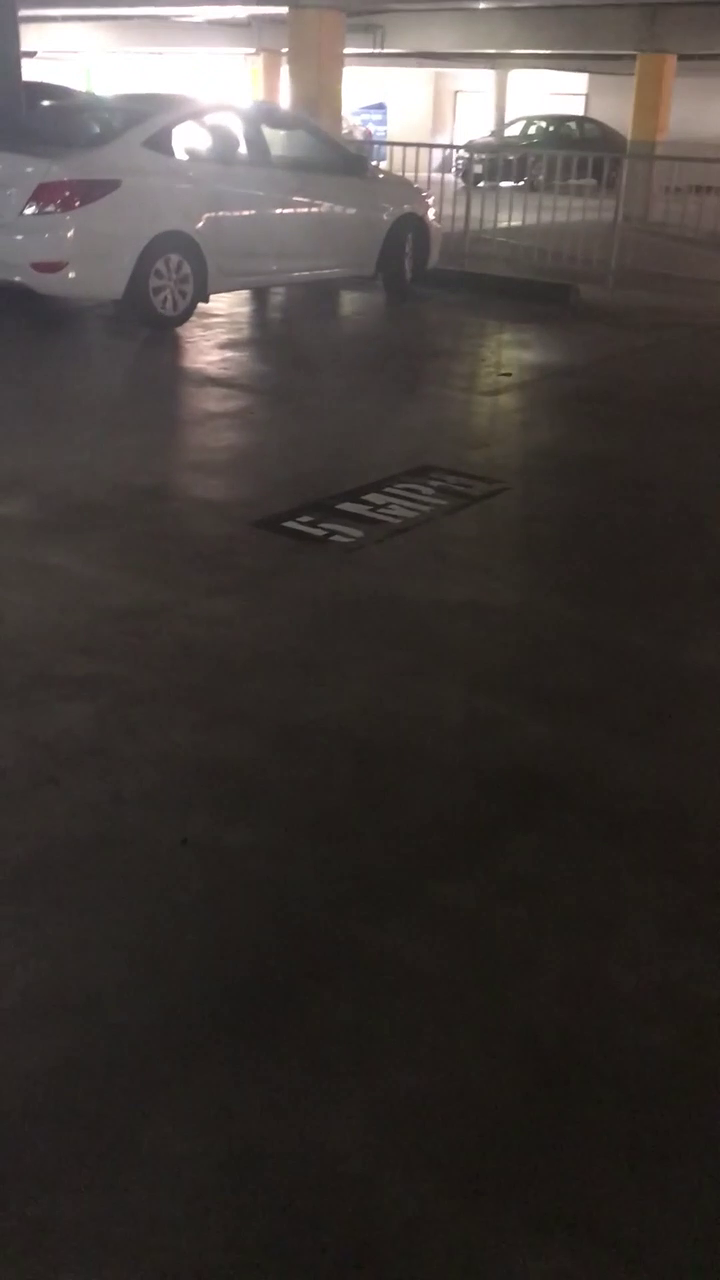car: (1, 71, 423, 340)
